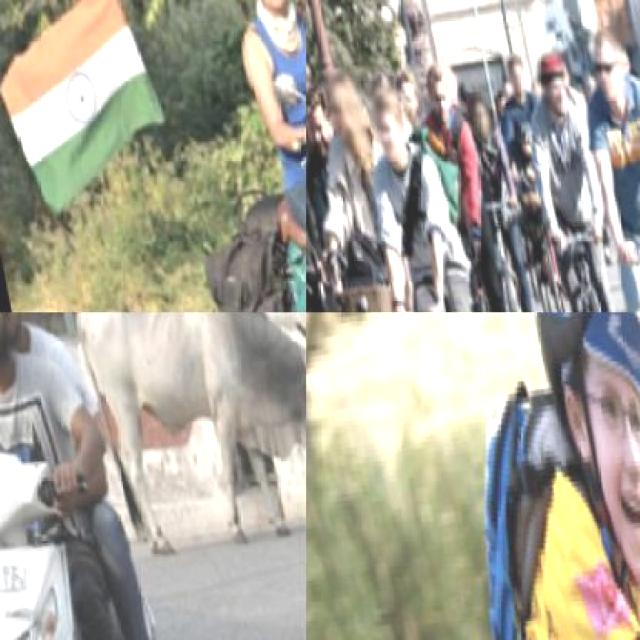With Helmet: (504, 313, 638, 602), (526, 45, 571, 117)
Without Helmet: (319, 66, 372, 160), (582, 26, 632, 106), (362, 78, 408, 164), (417, 58, 457, 134), (501, 52, 530, 108), (463, 91, 494, 143)
